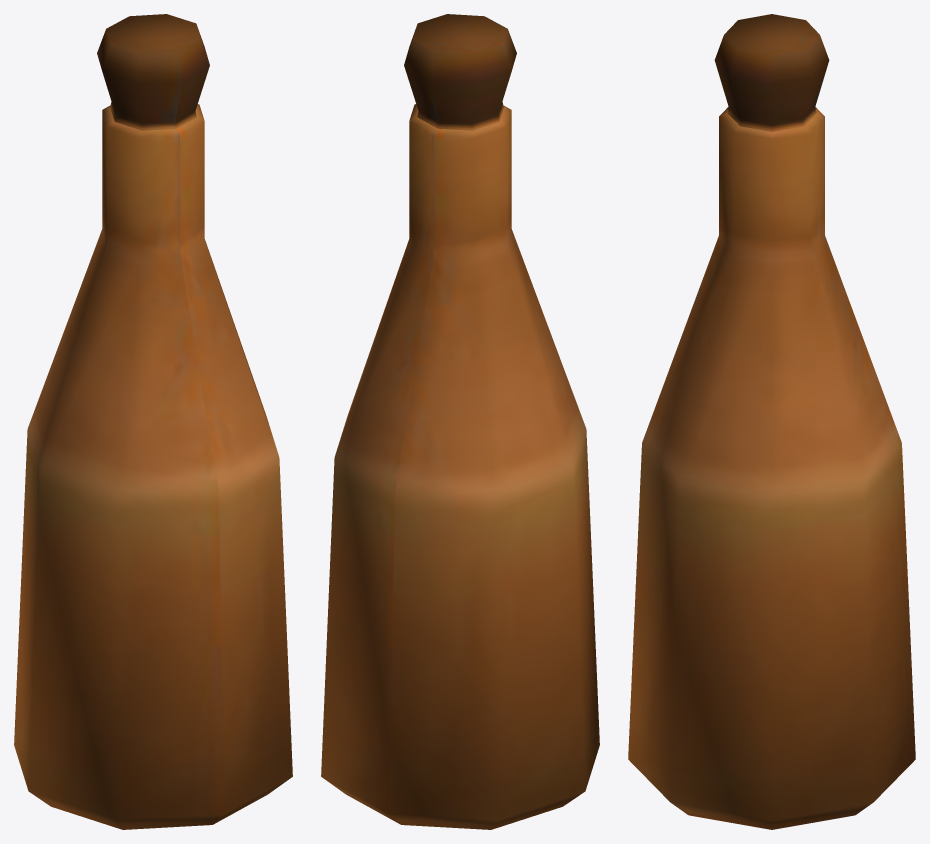
The model's file is Bottle_01.glb.
The picture shows the model from 3 angles, left to right: view 1: azimuth 30°, elevation 25°; view 2: azimuth 150°, elevation 25°; view 3: azimuth 270°, elevation 25°; orthographic projection.
Parts seen in each view (by area): view 1: Bottle_01; view 2: Bottle_01; view 3: Bottle_01.
Boxes of the visible parts, x1=… form: Bottle_01: x1=14, y1=14, x2=292, y2=829; Bottle_01: x1=321, y1=14, x2=599, y2=829; Bottle_01: x1=628, y1=14, x2=915, y2=829.
Size of the model in its own units: 0.2807 by 0.8022 by 0.2807.
Materials: 1 (1 with a texture image).
